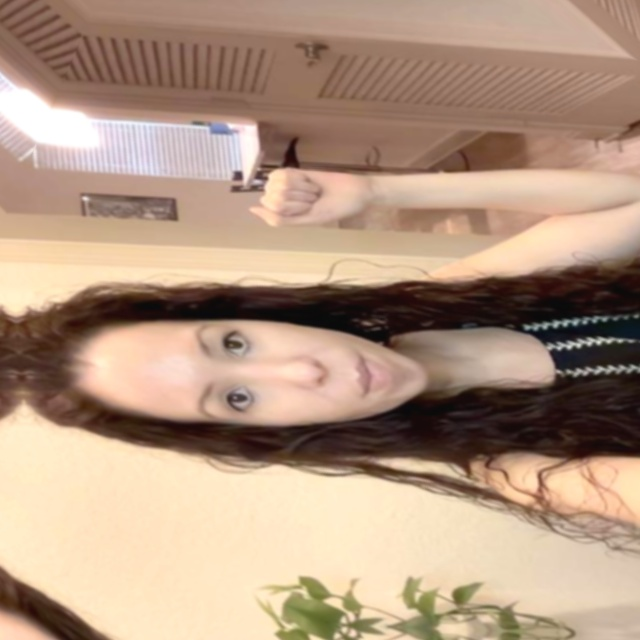Rock: (208, 110, 407, 280)
